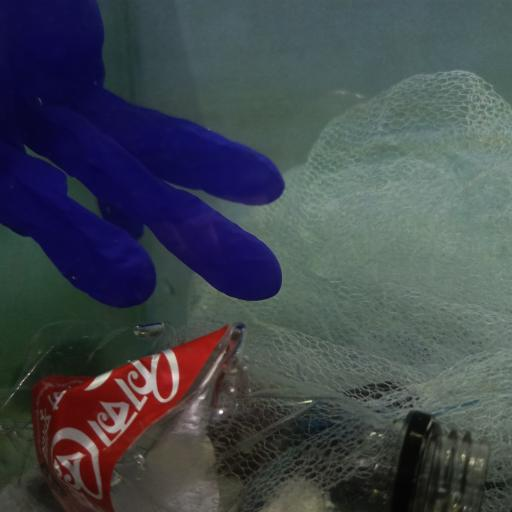glove: (0, 0, 285, 308)
net: (183, 70, 512, 512)
plastic_bottle: (0, 319, 488, 512)
